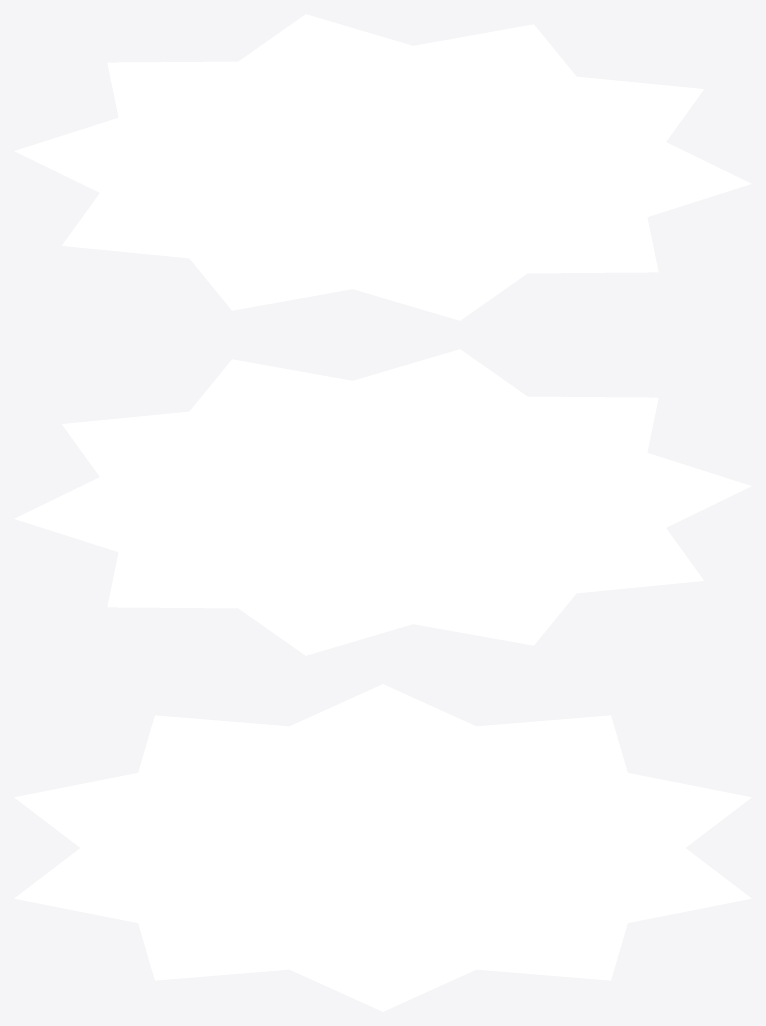
File: sun_patch.glb
The picture shows the model from 3 angles, top to bottom: view 1: azimuth 30°, elevation 25°; view 2: azimuth 150°, elevation 25°; view 3: azimuth 270°, elevation 25°; orthographic projection. The views are drawn at different scales.
Parts seen in each view (by area): view 1: Patch; view 2: Patch; view 3: Patch.
Part boxes in pixels (left/top/right/bottom): Patch: left=14, top=14, right=751, bottom=320; Patch: left=14, top=349, right=751, bottom=655; Patch: left=14, top=684, right=751, bottom=1011.
Bounding box in the file's own units: 0.92 × 0.002 × 0.875.
